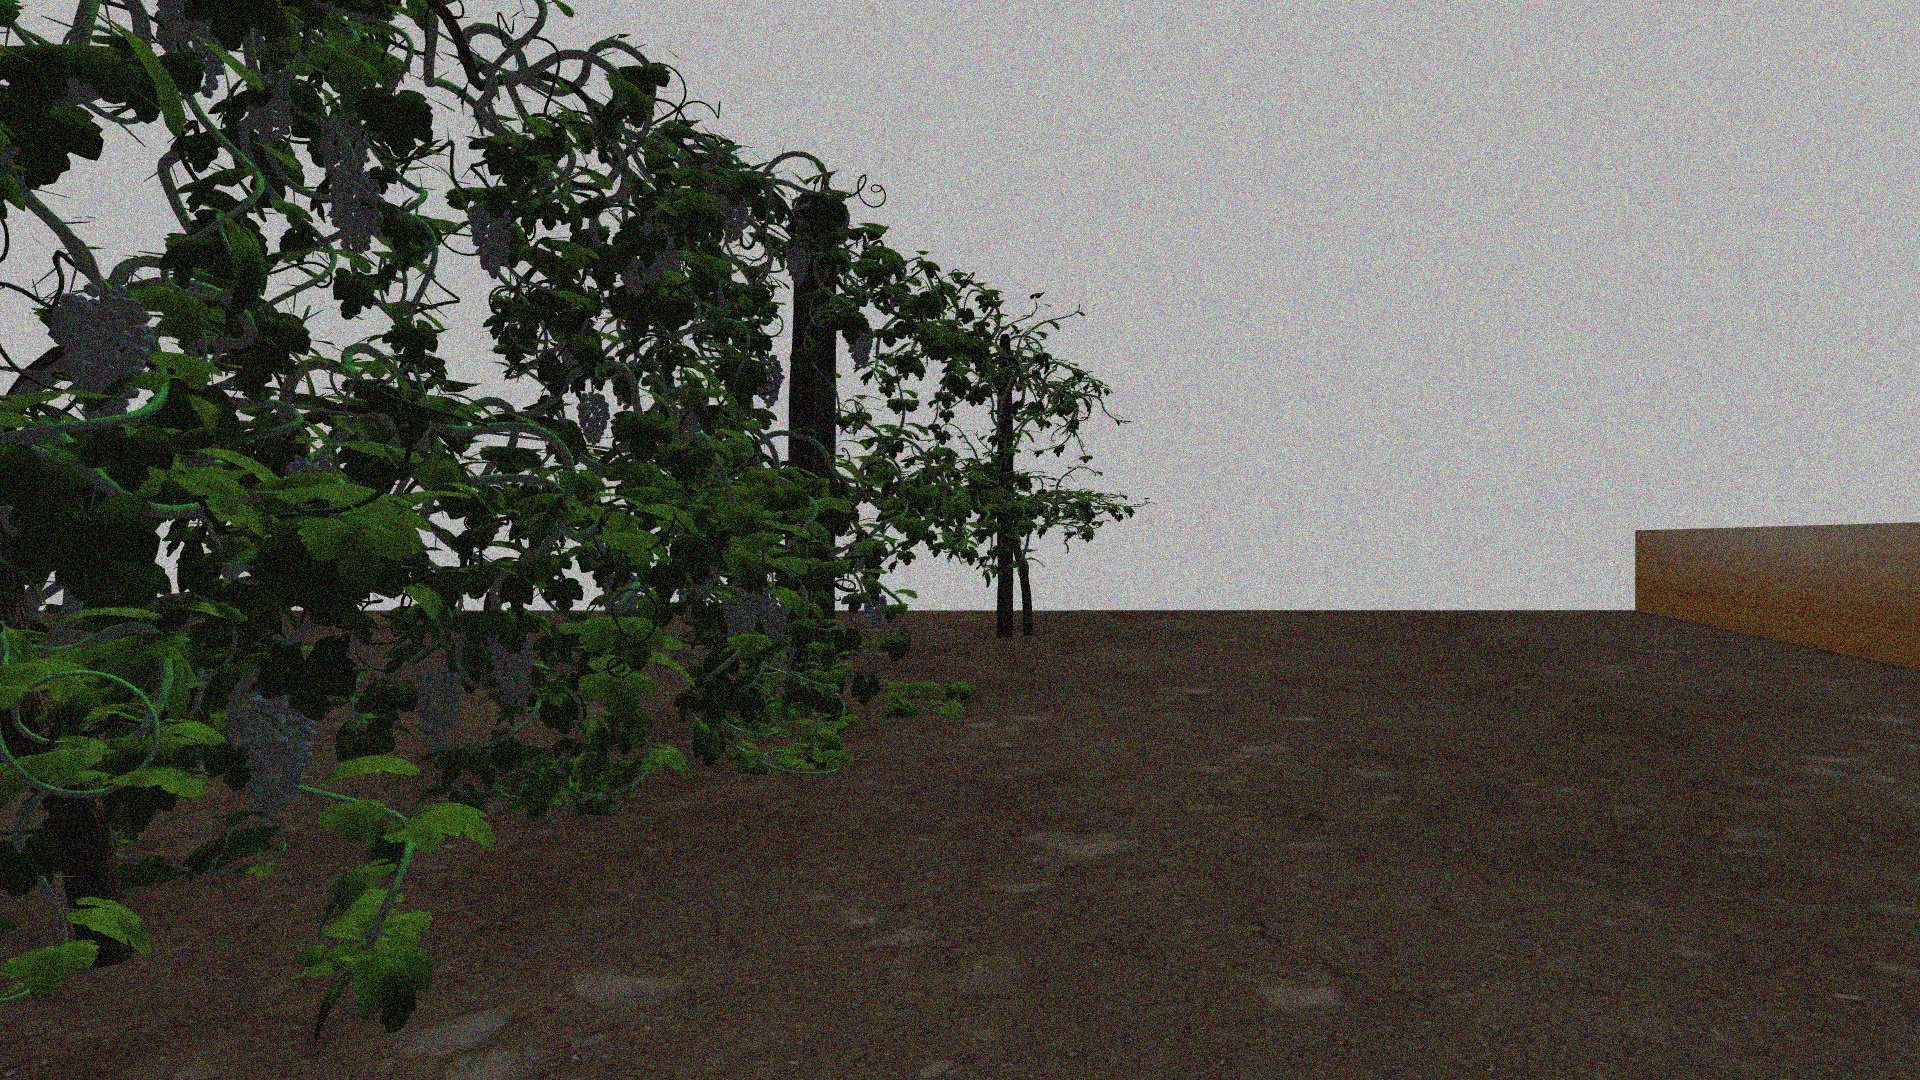grape: (47, 284, 154, 402), (229, 694, 319, 820), (328, 170, 384, 256), (465, 196, 517, 277), (415, 671, 465, 749), (488, 637, 535, 705), (318, 116, 371, 173), (640, 222, 676, 282), (712, 185, 749, 243), (756, 587, 793, 642), (576, 392, 609, 446), (724, 596, 760, 641), (756, 355, 785, 409), (847, 326, 874, 368), (787, 243, 810, 286), (621, 258, 645, 297), (862, 593, 889, 624)
